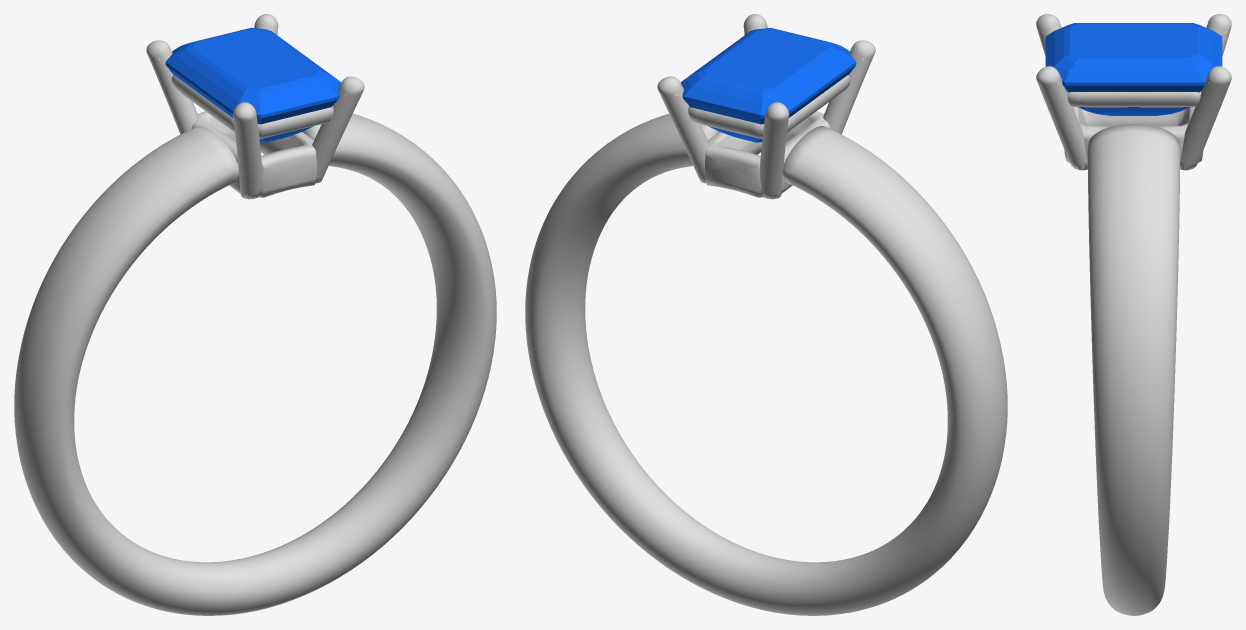
The model's file is bluesapphire-emerald-platinum-4prong-taperedband-solitaire.glb.
3 views of the same model, side by side, from view 1: azimuth 30°, elevation 25°; view 2: azimuth 150°, elevation 25°; view 3: azimuth 270°, elevation 25° (orthographic).
Parts seen in each view (by area): view 1: metal.002, stone; view 2: metal.002, stone; view 3: metal.002, stone.
Part boxes in pixels (left/top/right/bottom): metal.002: left=14, top=14, right=496, bottom=615; stone: left=165, top=27, right=341, bottom=142; metal.002: left=525, top=14, right=1007, bottom=615; stone: left=680, top=27, right=856, bottom=142; metal.002: left=1036, top=14, right=1231, bottom=615; stone: left=1045, top=23, right=1222, bottom=115.
Size of the model in its own units: 20.51 by 22.94 by 7.4.
